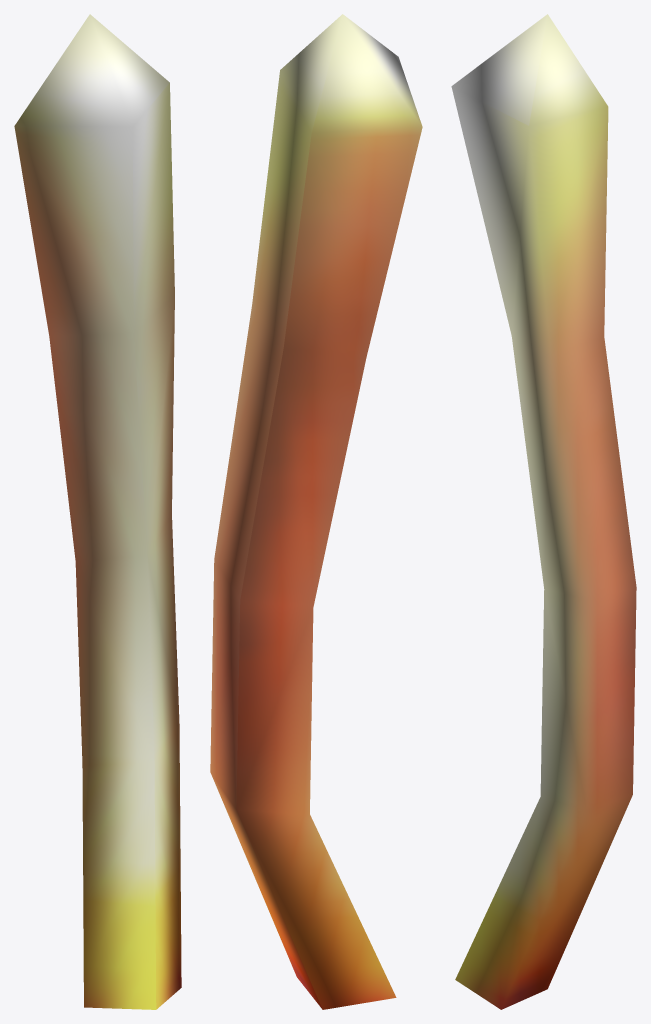
Rendered from wick.obj.
3 views of the same model, side by side, from view 1: azimuth 30°, elevation 25°; view 2: azimuth 150°, elevation 25°; view 3: azimuth 270°, elevation 25° (orthographic). The views are drawn at different scales.
Parts seen in each view (by area): view 1: polySurface4 CAKEHIGH1; view 2: polySurface4 CAKEHIGH1; view 3: polySurface4 CAKEHIGH1.
Part boxes in pixels (x1,y1,x2,y2): polySurface4 CAKEHIGH1: (14,14,181,1009); polySurface4 CAKEHIGH1: (210,14,422,1009); polySurface4 CAKEHIGH1: (451,14,636,1009).
Bounding box in the file's own units: 0.0114 × 0.057 × 0.0099.
Materials: 1 (1 with a texture image).
